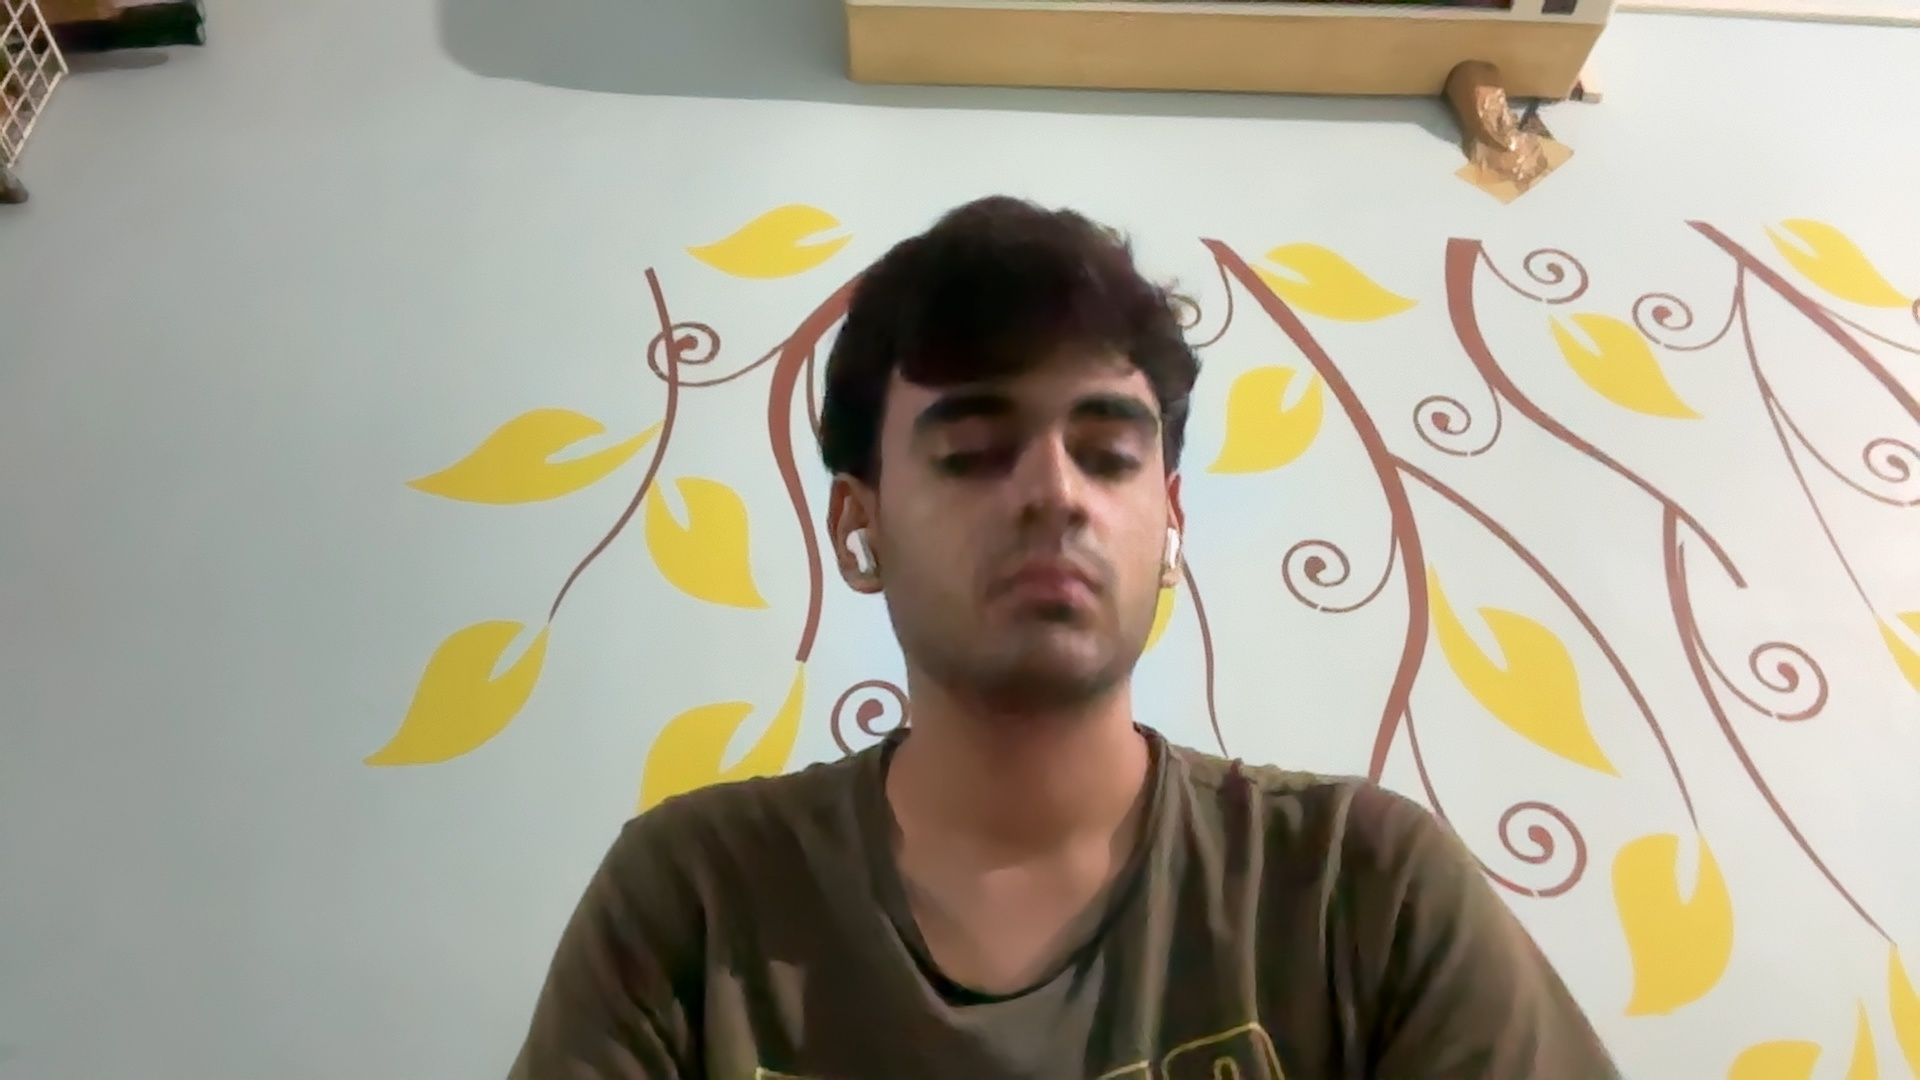No Mask: (888, 484, 1171, 712)
